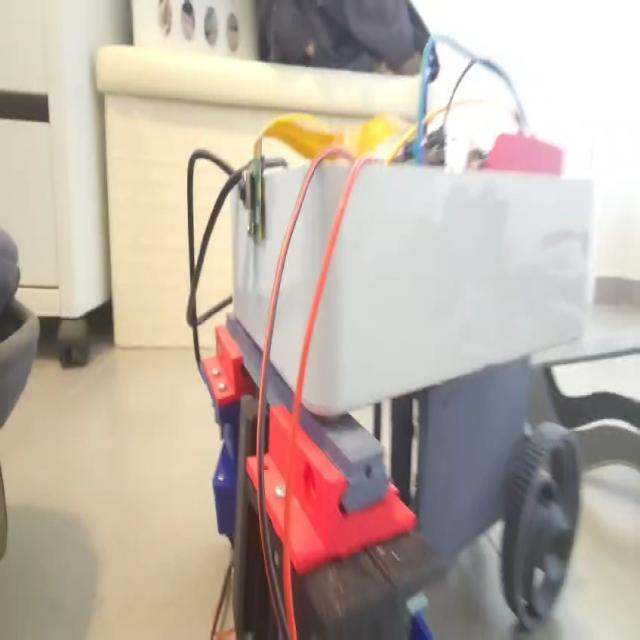Robot: (200, 129, 593, 640)
